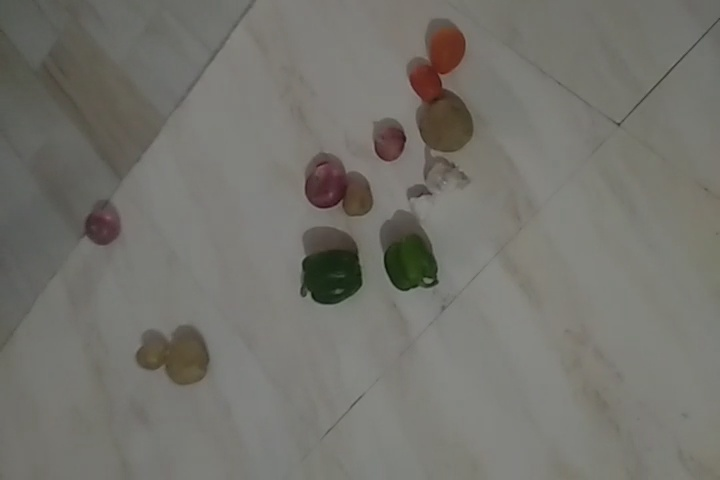capsicum: (291, 250, 362, 307), (379, 233, 440, 294)
garlic: (429, 164, 473, 200), (399, 184, 435, 217)
onion: (305, 161, 342, 207), (86, 206, 117, 247), (371, 128, 402, 163)
potato: (422, 101, 473, 148), (170, 329, 210, 384), (132, 336, 167, 372), (346, 181, 375, 216)
tomato: (425, 27, 467, 78), (410, 63, 442, 100)
